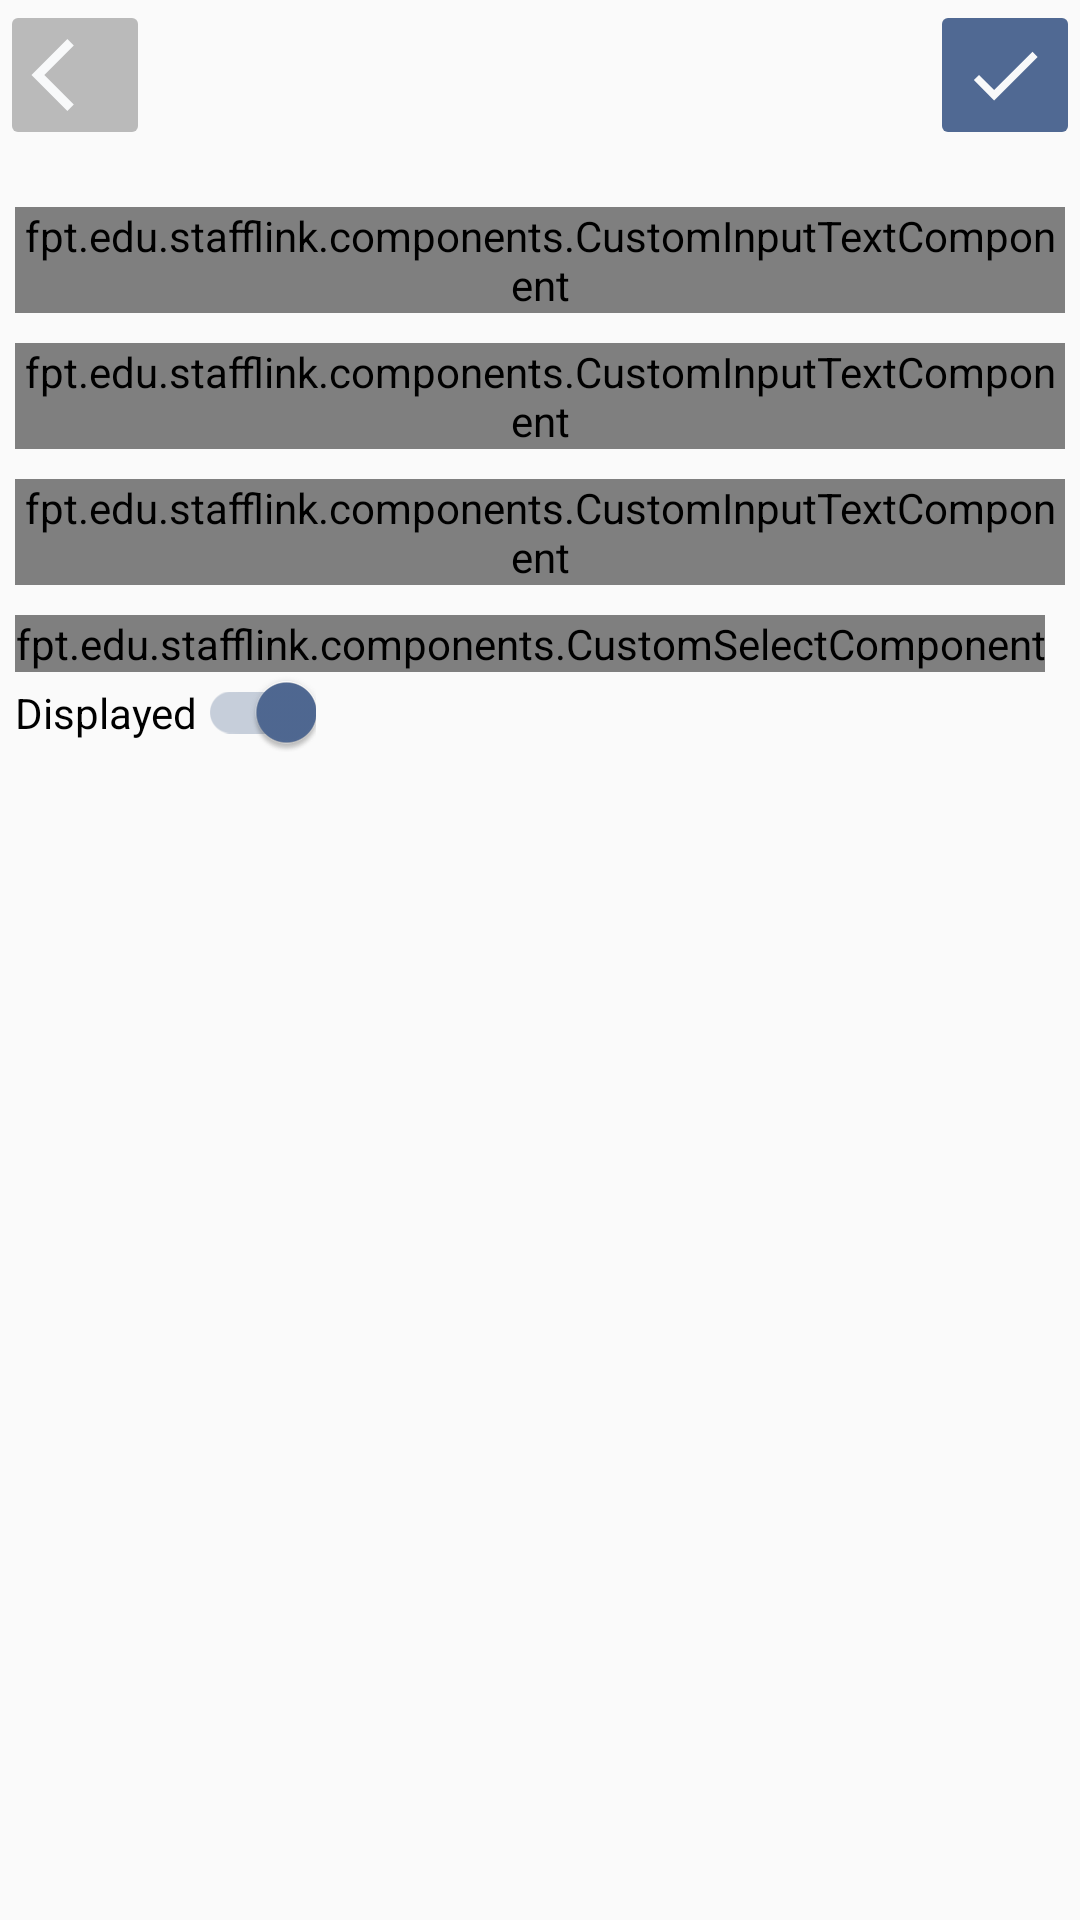

Locate icon controls on the screen. Image size 1080w x 1920h, boxes as (x1, y1, x2, y2).
back: (12, 18, 138, 132)
check: (942, 18, 1068, 132)
